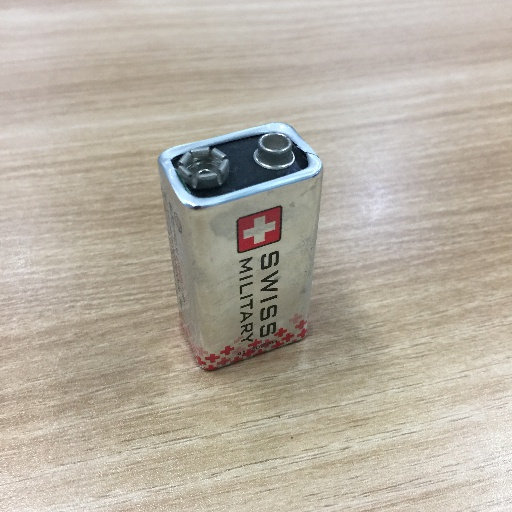Battery_3: (139, 97, 348, 392)
